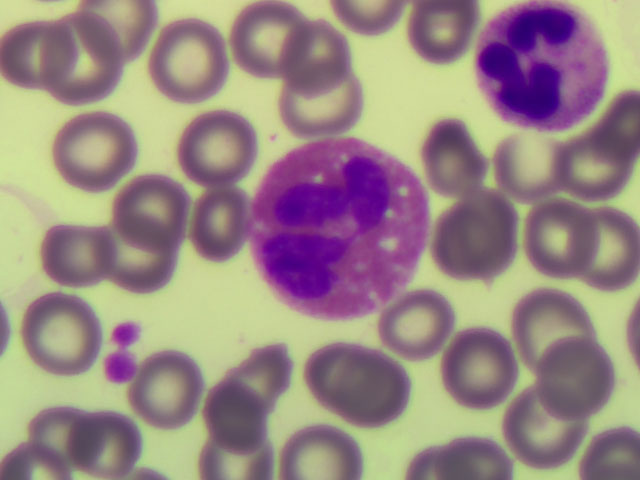Platelets: (100, 314, 148, 389)
RBC: (49, 23, 129, 102), (156, 27, 236, 106), (228, 1, 308, 80), (269, 15, 349, 94), (285, 72, 365, 151), (185, 103, 265, 182), (110, 160, 190, 239), (53, 108, 133, 187), (97, 222, 177, 301), (44, 216, 124, 295), (32, 289, 112, 368), (175, 185, 255, 264), (414, 113, 494, 192), (433, 194, 513, 273), (478, 130, 558, 209), (525, 201, 605, 280), (558, 219, 638, 298), (504, 283, 584, 362), (551, 341, 631, 420), (504, 388, 584, 467), (434, 330, 514, 409), (372, 280, 452, 359), (335, 353, 415, 432), (290, 331, 370, 410), (221, 335, 301, 414), (194, 389, 274, 468), (130, 353, 210, 432), (78, 396, 158, 475), (30, 391, 110, 470), (274, 401, 354, 480), (1, 16, 80, 95), (406, 1, 486, 79)
WBC: (241, 144, 432, 316), (475, 1, 614, 139)
